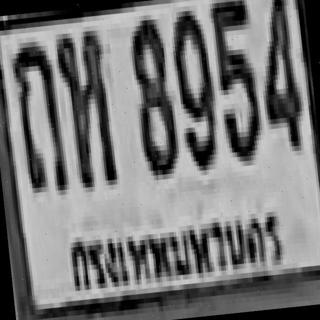A22: (8, 39, 68, 193)
A41: (55, 28, 116, 187)
N04: (254, 0, 305, 152)
N05: (208, 0, 264, 162)
N08: (127, 15, 180, 178)
N09: (169, 8, 220, 170)
P04: (56, 197, 289, 306)
